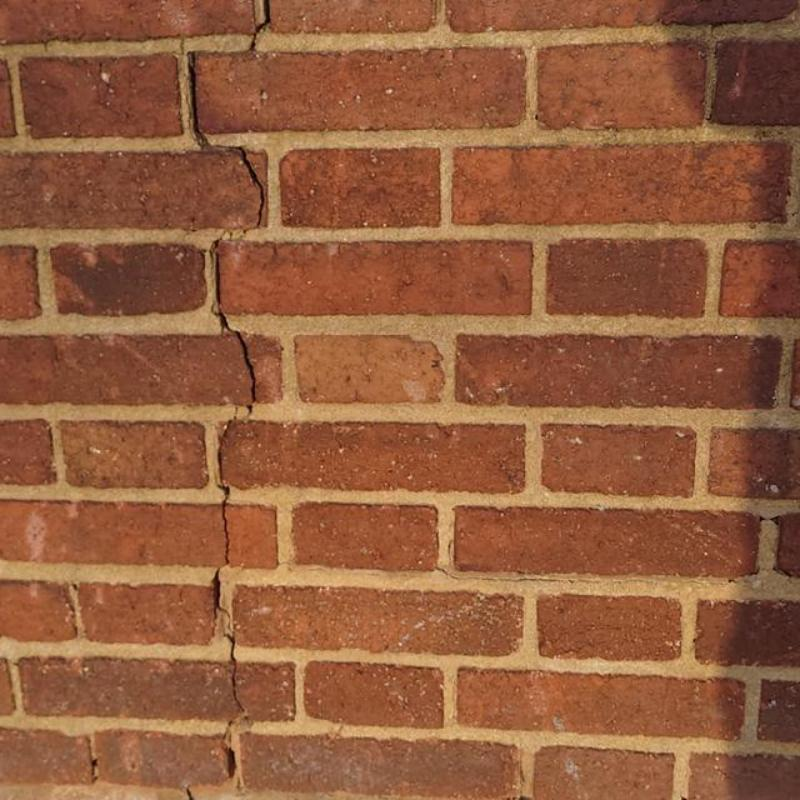pothole: (187, 51, 266, 228), (208, 239, 258, 402), (216, 407, 238, 564), (221, 664, 246, 779), (209, 566, 237, 663), (436, 568, 601, 584), (245, 1, 272, 53), (159, 36, 185, 55), (241, 404, 254, 420), (89, 759, 98, 774), (446, 540, 454, 556), (186, 788, 196, 799)
